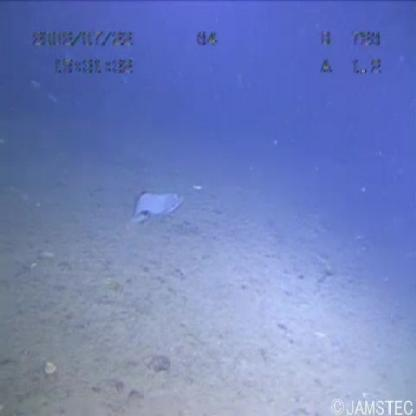Rác: (130, 183, 189, 240)
